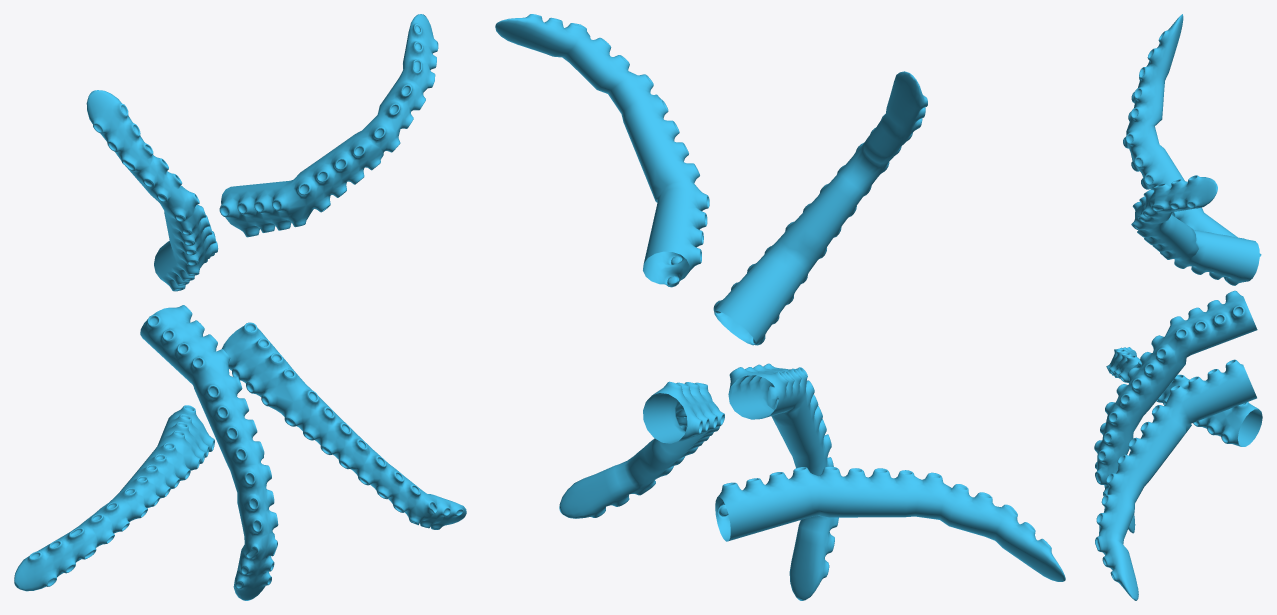
File: gddgdffd.FBX
3 renders of one model, left to right at view 1: azimuth 30°, elevation 25°; view 2: azimuth 150°, elevation 25°; view 3: azimuth 270°, elevation 25°, orthographic. The views are drawn at different scales.
Visible parts, largest first — view 1: Cylinder011, Cylinder010, Cylinder008, Cylinder009, Cylinder007; view 2: Cylinder009, Cylinder010, Cylinder007, Cylinder011, Cylinder008; view 3: Cylinder008, Cylinder011, Cylinder010, Cylinder007, Cylinder009.
Part boxes in pixels (bbox=[...]): Cylinder011: bbox=[140, 305, 278, 600]; Cylinder010: bbox=[219, 14, 438, 237]; Cylinder008: bbox=[222, 322, 466, 529]; Cylinder009: bbox=[14, 405, 214, 591]; Cylinder007: bbox=[86, 90, 218, 291]; Cylinder009: bbox=[715, 466, 1065, 581]; Cylinder010: bbox=[495, 14, 709, 287]; Cylinder007: bbox=[713, 71, 927, 345]; Cylinder011: bbox=[728, 363, 838, 600]; Cylinder008: bbox=[559, 381, 724, 518]; Cylinder008: bbox=[1095, 359, 1256, 600]; Cylinder011: bbox=[1094, 290, 1257, 533]; Cylinder010: bbox=[1131, 175, 1259, 285]; Cylinder007: bbox=[1123, 14, 1261, 281]; Cylinder009: bbox=[1106, 347, 1262, 446].
Bounding box in the file's own units: 277 × 299 × 98.33.
